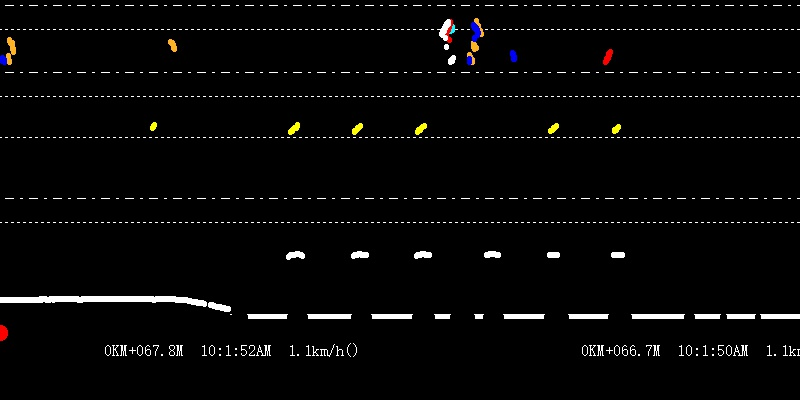J: (439, 1, 483, 65)
face_down: (164, 22, 180, 55)
